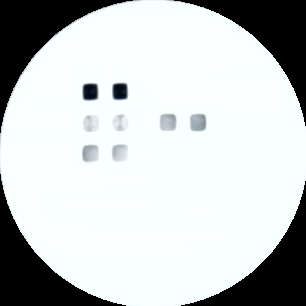检查点: (110, 111, 132, 136), (156, 113, 179, 134), (81, 113, 102, 134), (111, 142, 131, 164), (82, 142, 101, 165), (189, 111, 208, 133), (110, 81, 130, 101), (82, 82, 99, 102)
